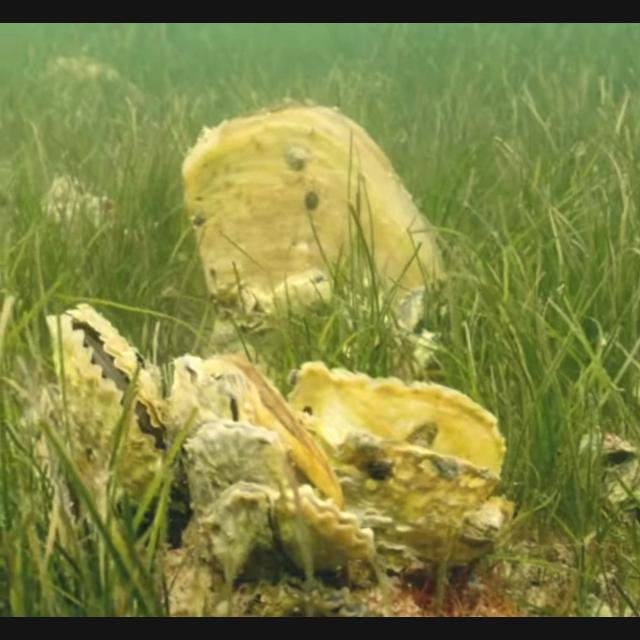Oyster-Closed: (179, 102, 447, 336), (165, 352, 338, 506), (179, 419, 285, 517)
Oyster-Open: (283, 360, 515, 570), (43, 301, 174, 514), (197, 477, 375, 587)
